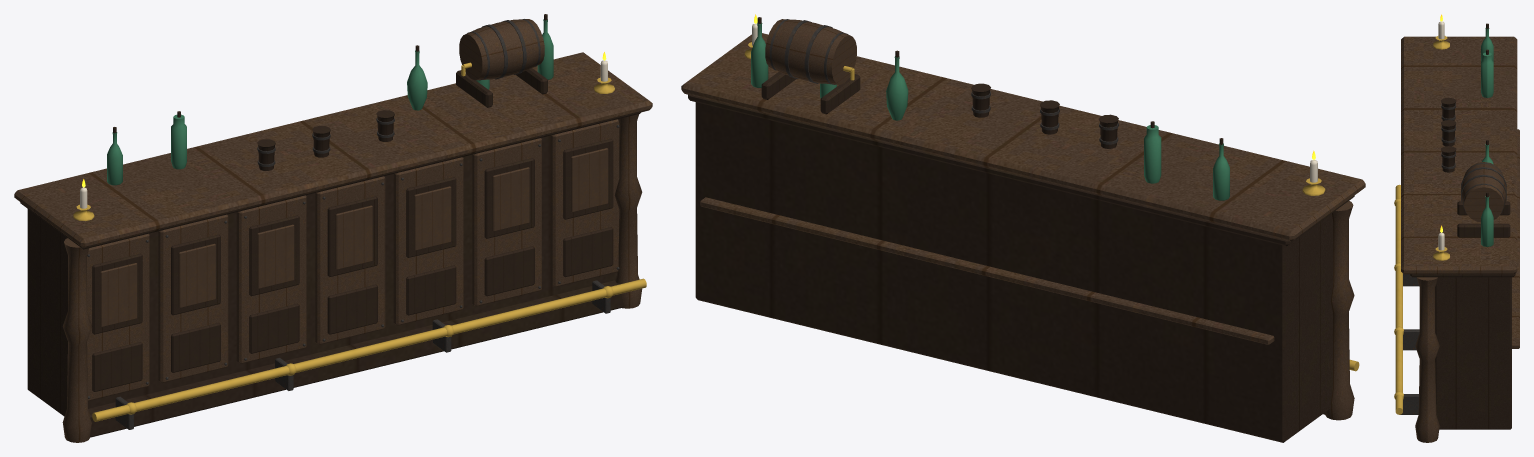
The model's file is bar_counter.glb.
3 renders of one model, left to right at view 1: azimuth 30°, elevation 25°; view 2: azimuth 150°, elevation 25°; view 3: azimuth 270°, elevation 25°, orthographic. The views are drawn at different scales.
Visible parts, largest first — view 1: bar_counter; view 2: bar_counter; view 3: bar_counter.
Part boxes in pixels (bbox=[...]): bar_counter: bbox=[14, 14, 652, 442]; bar_counter: bbox=[681, 14, 1365, 442]; bar_counter: bbox=[1394, 14, 1519, 442].
Bounding box in the file's own units: 3.14 × 1.44 × 0.715.
Materials: 1 (1 with a texture image).
